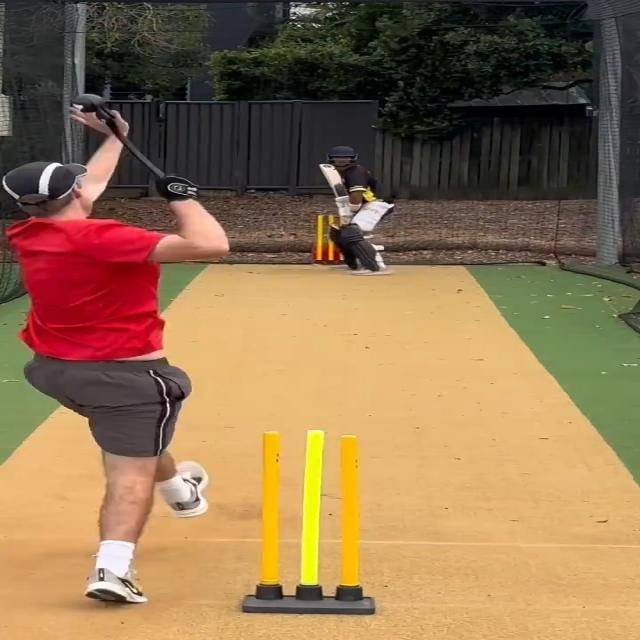stump: (243, 427, 378, 615)
